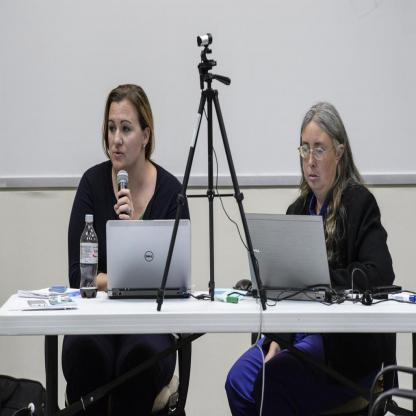board: (244, 213, 347, 302), (107, 219, 191, 300), (80, 214, 98, 301)
